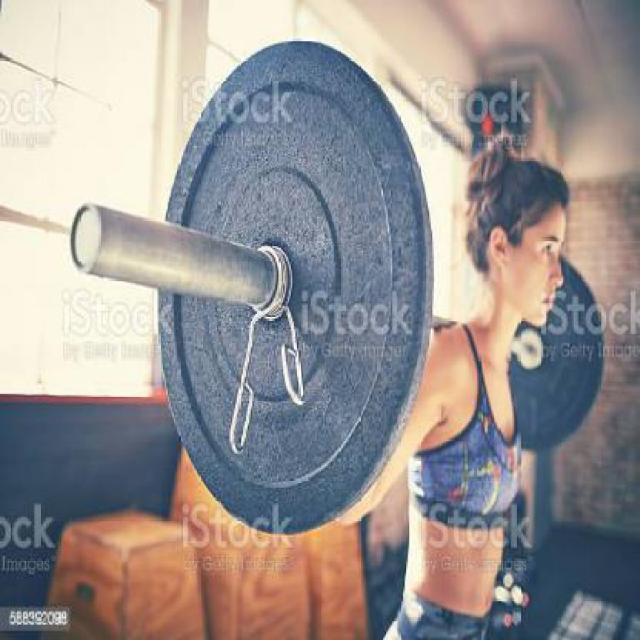Barbell: (60, 188, 112, 297)
